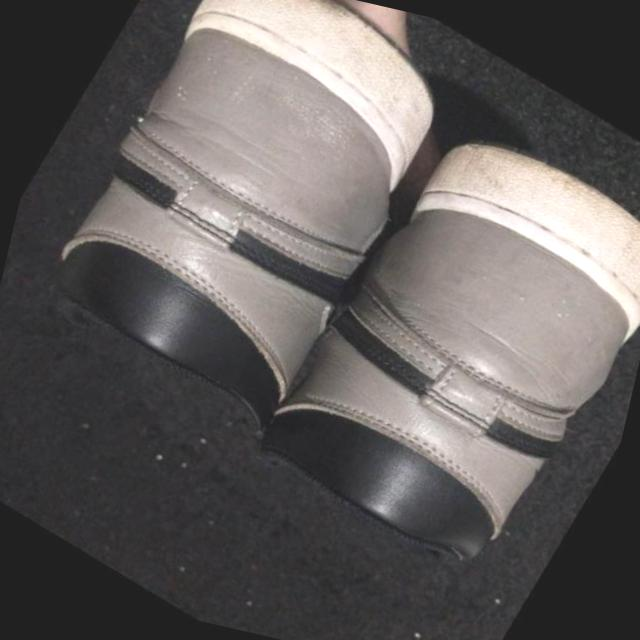nike_fake_jordan: (223, 69, 640, 609), (7, 0, 492, 460)
